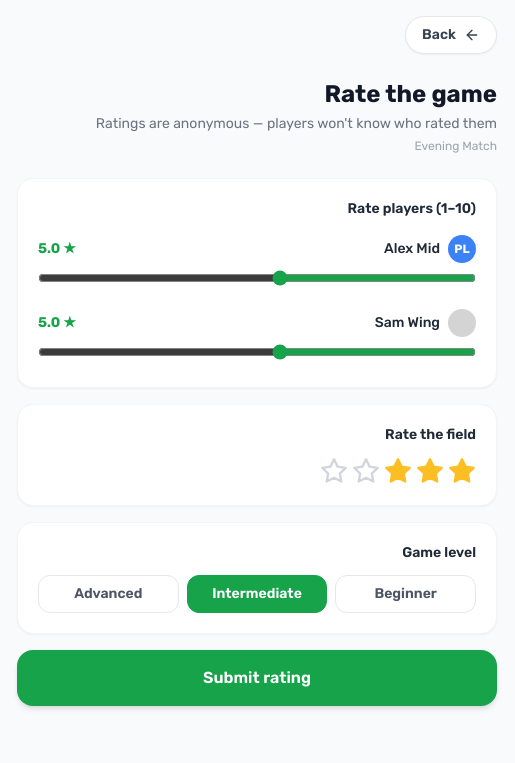
Test: PostGameRating › shows submission errors and keeps the form usable
expect the heading "Rate the game" is shown: met, box x1=324 y1=80 x2=497 y2=108
Click the button "Submit rating" at (257, 678), box x1=17 y1=650 x2=497 y2=706
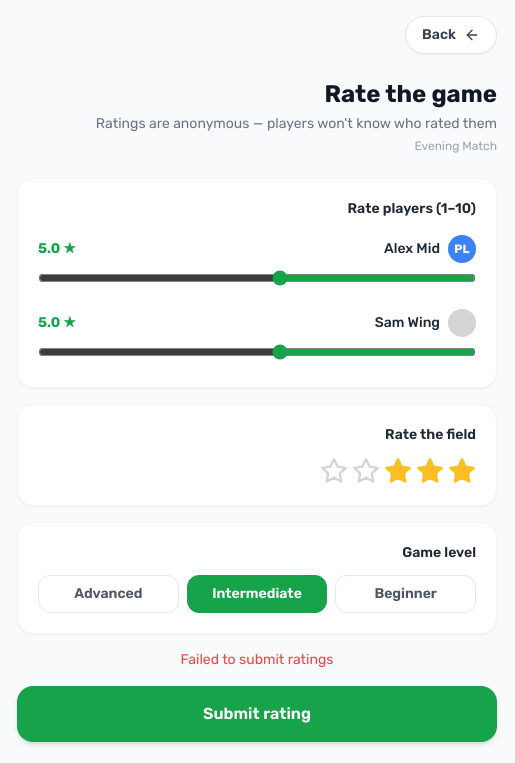
expect the button "Submit rating" is enabled: met, box x1=17 y1=686 x2=497 y2=742
expect the text "Failed to submit ratings" is shown: met, box x1=180 y1=651 x2=333 y2=668
